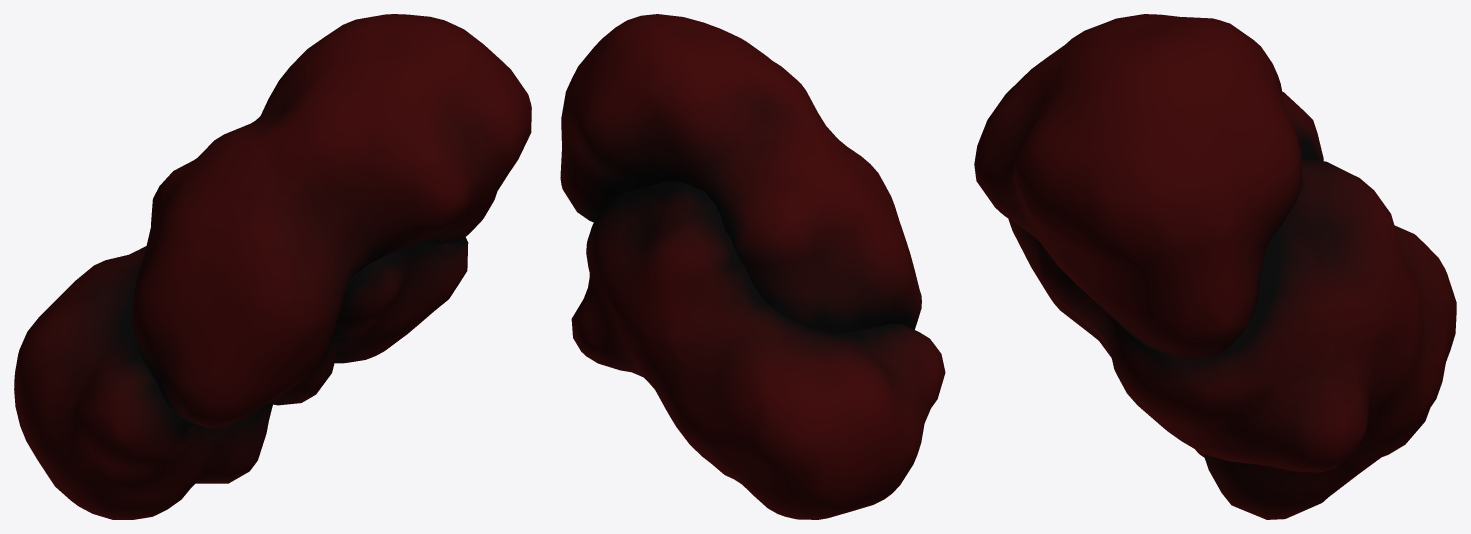
The model's file is TBP.fbx.
3 views of the same model, side by side, from view 1: azimuth 30°, elevation 25°; view 2: azimuth 150°, elevation 25°; view 3: azimuth 270°, elevation 25° (orthographic). The views are drawn at different scales.
Parts seen in each view (by area): view 1: chain_B_surface, chain_A_surface; view 2: chain_A_surface, chain_B_surface; view 3: chain_B_surface, chain_A_surface.
Part boxes in pixels (x1,y1,x2,y2): chain_B_surface: [132, 14, 531, 428]; chain_A_surface: [14, 237, 468, 519]; chain_A_surface: [571, 181, 945, 519]; chain_B_surface: [560, 14, 921, 332]; chain_B_surface: [974, 14, 1323, 359]; chain_A_surface: [1036, 157, 1456, 519].
Size of the model in its own units: 77.55 by 78.11 by 59.37.
